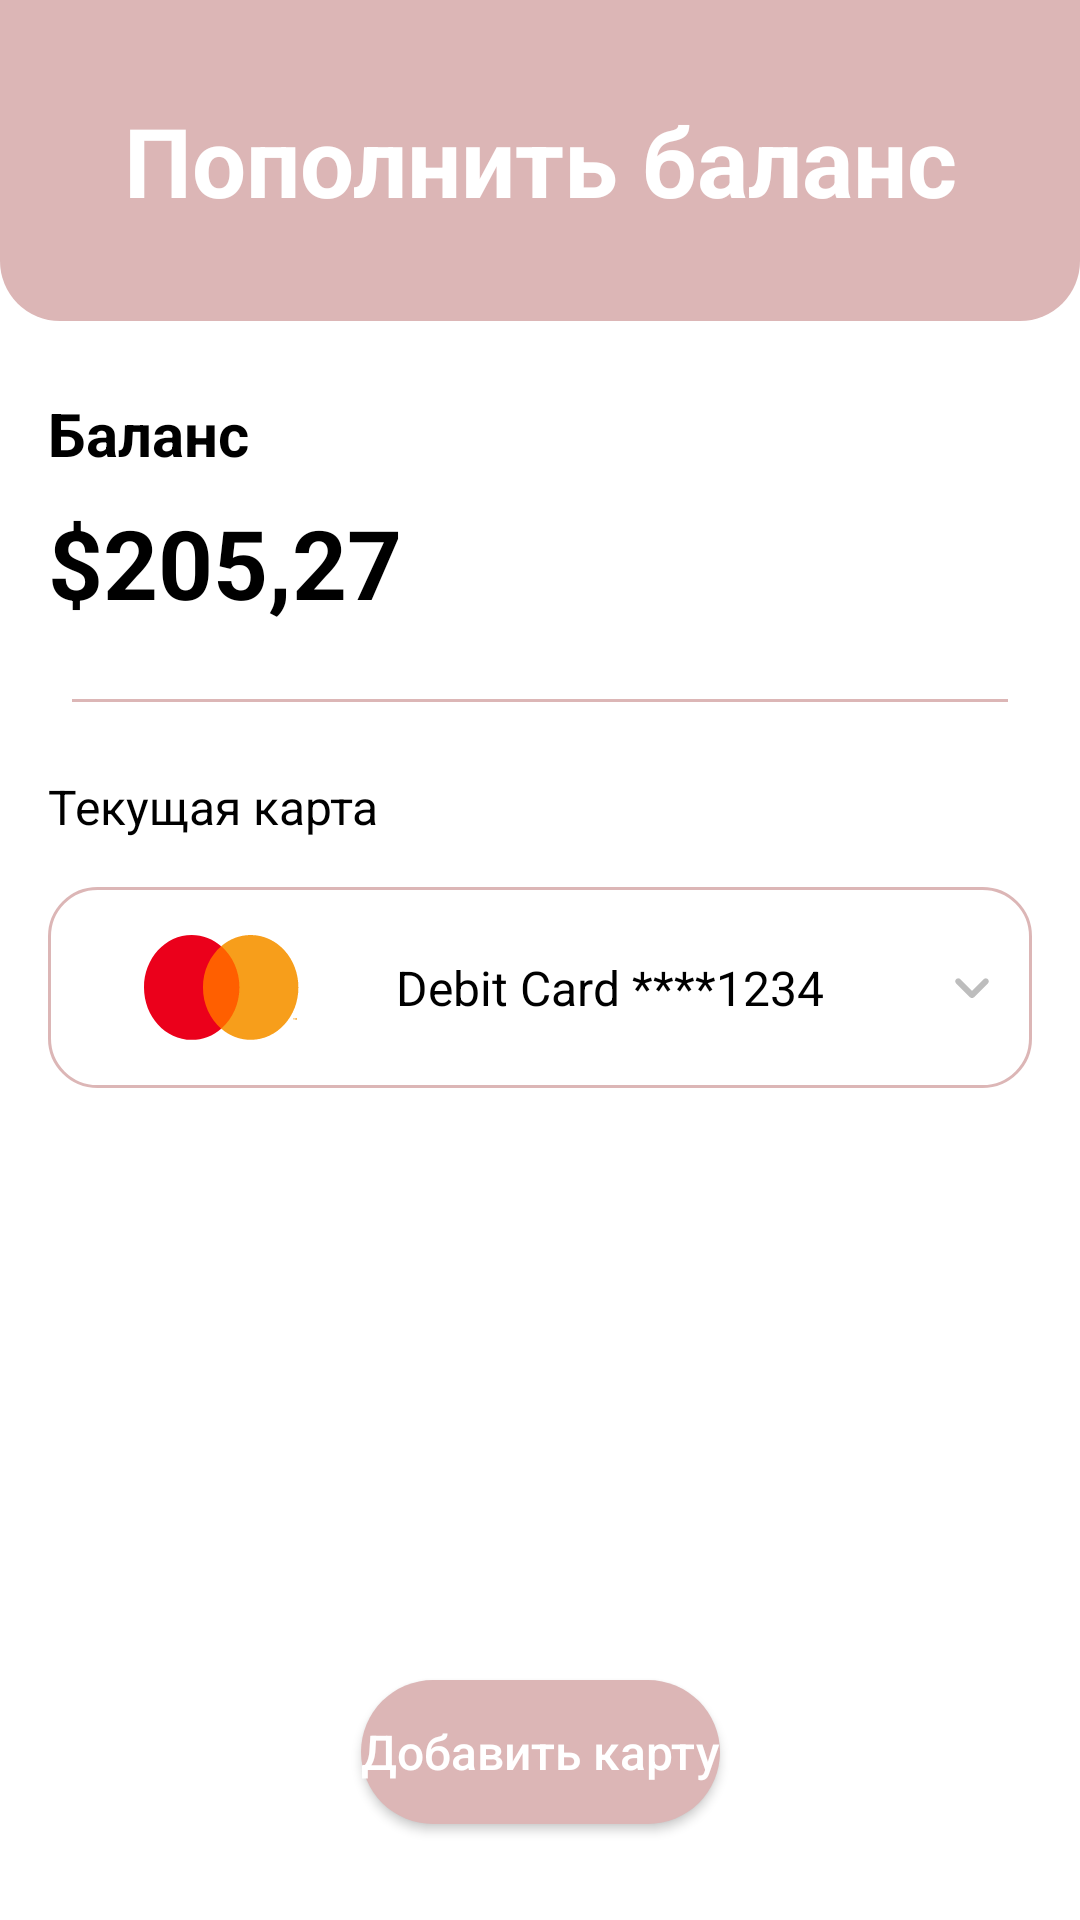

Locate icon controls on the screen. Image size 1080 x 1920, boxes as (x1, y1, x2, y2).
keyboard arrow down: (955, 978, 989, 998)
